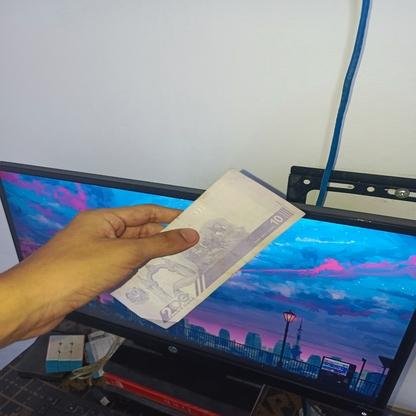ten-back-vef: (108, 168, 304, 330)
